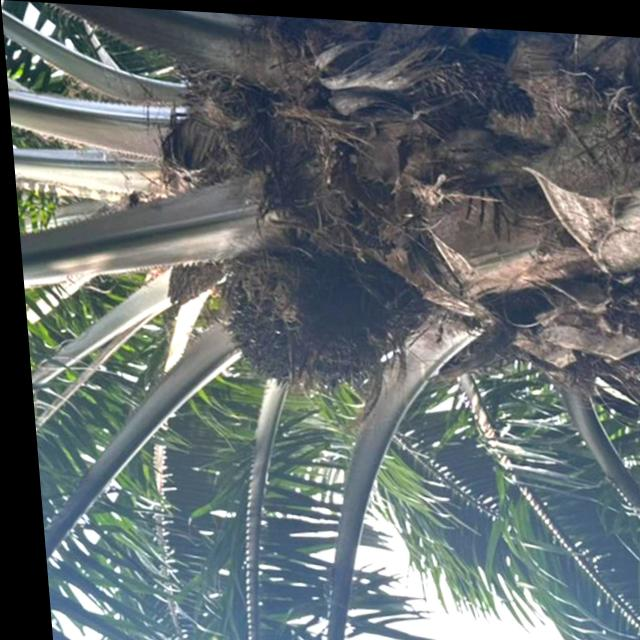unripe: (205, 228, 388, 401)
